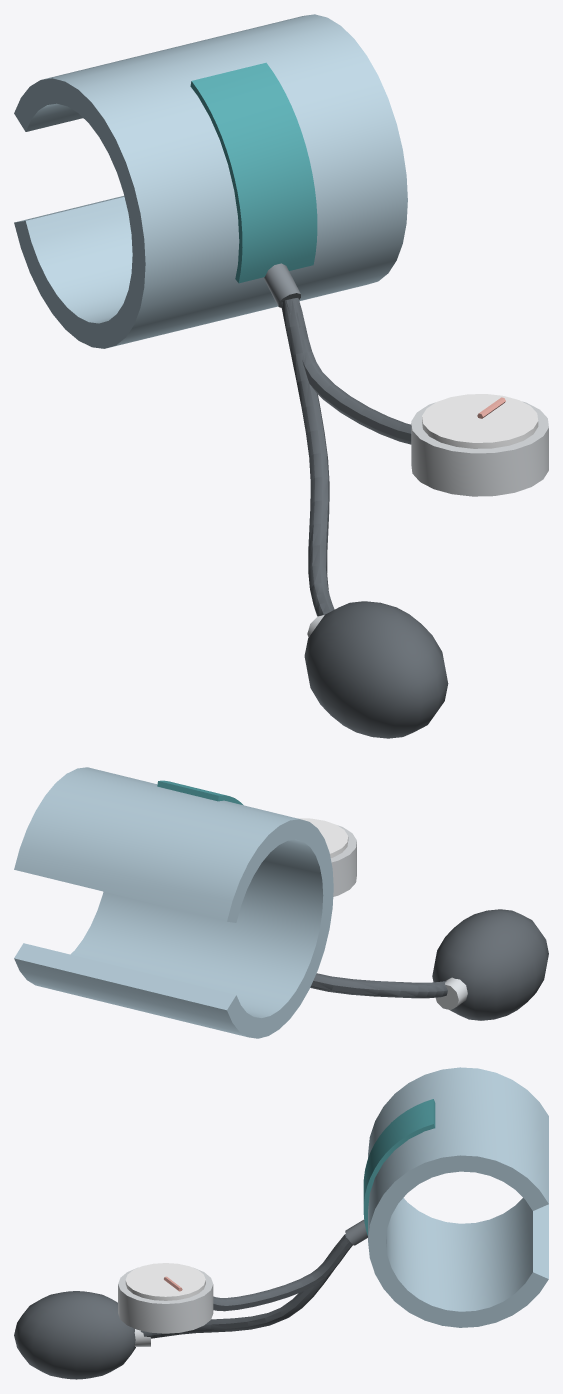
The model's file is bp_cuff.glb.
3 views of the same model, one above another, from view 1: azimuth 30°, elevation 25°; view 2: azimuth 150°, elevation 25°; view 3: azimuth 270°, elevation 25° (orthographic). The views are drawn at different scales.
Parts seen in each view (by area): view 1: bp_cuff; view 2: bp_cuff; view 3: bp_cuff.
Boxes of the visible parts, x1=… form: bp_cuff: x1=14, y1=14, x2=548, y2=738; bp_cuff: x1=14, y1=767, x2=548, y2=1038; bp_cuff: x1=14, y1=1067, x2=548, y2=1379.
Bounding box in the file's own units: 0.16 × 0.224 × 0.3596.
